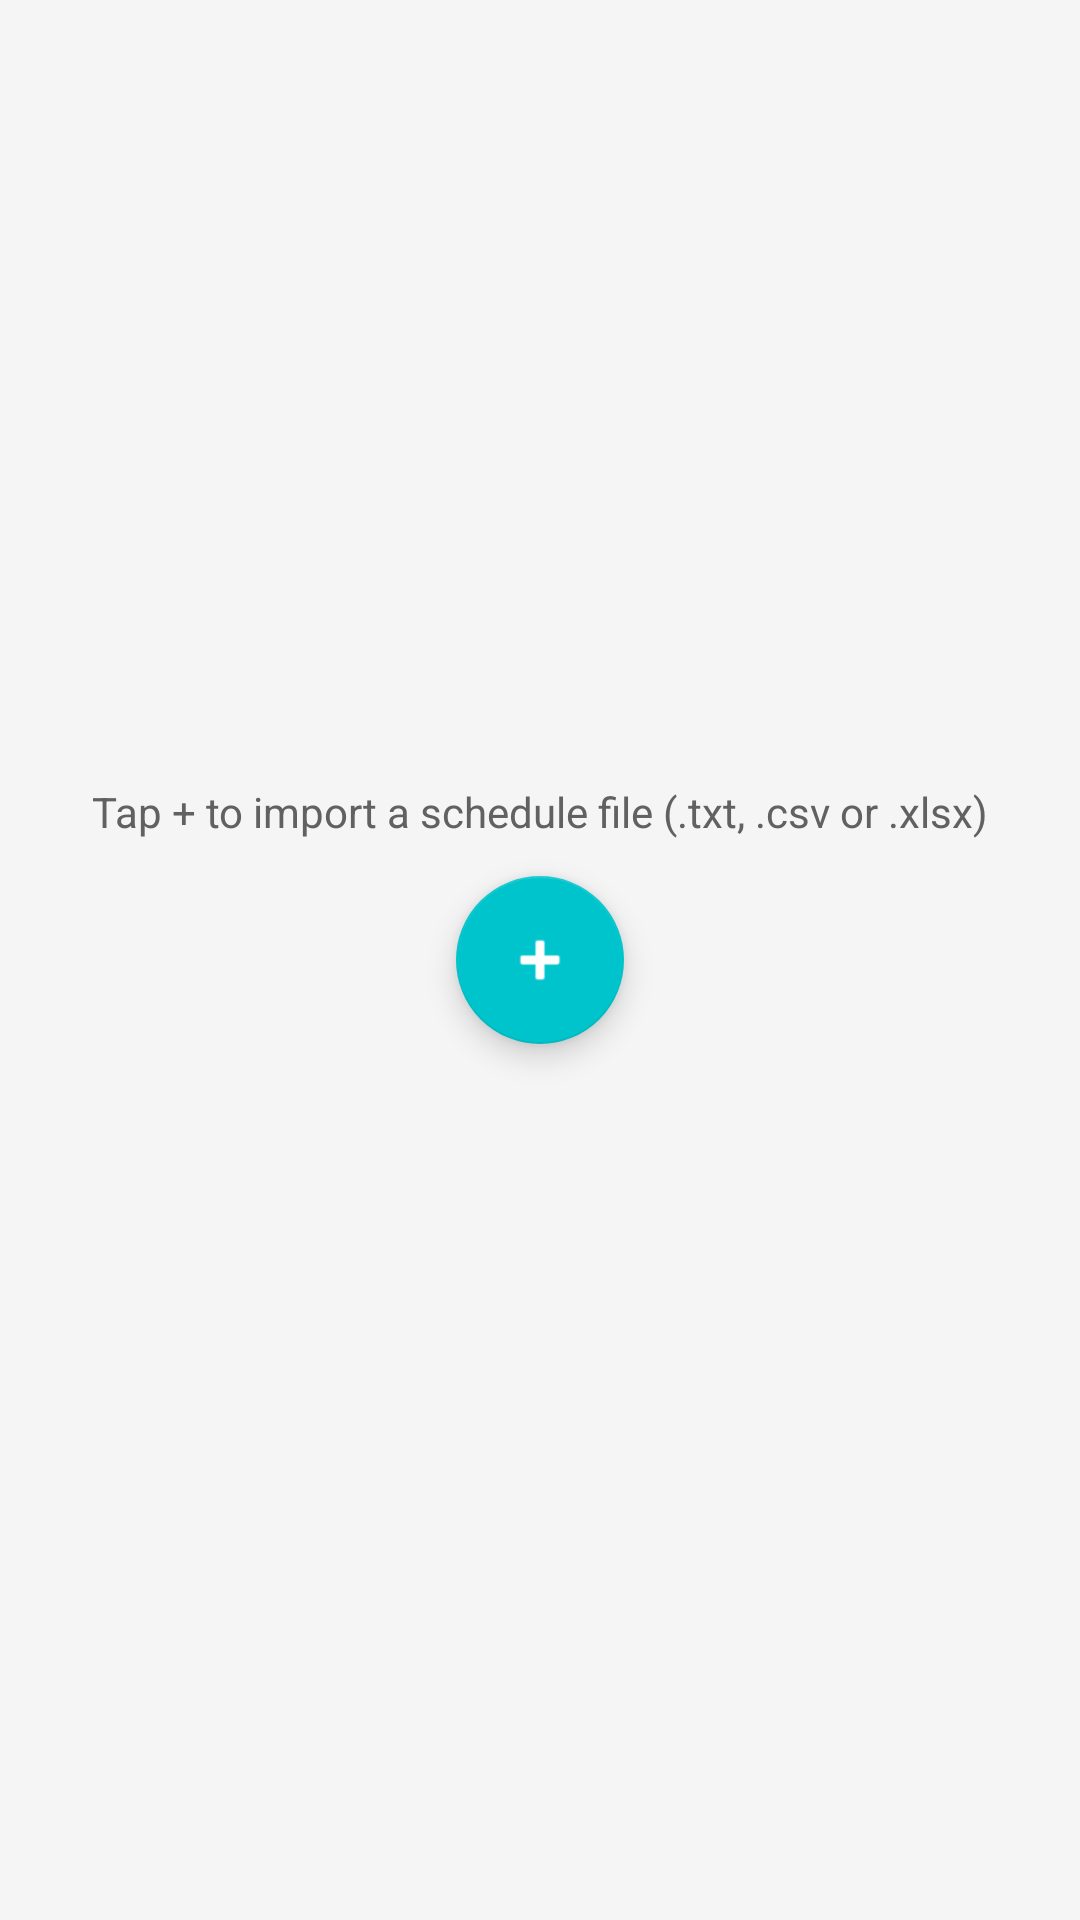

Screen size 1080*1920. Icon name, then its center in pixels as [x,y]:
Import schedule data: [540,960]
